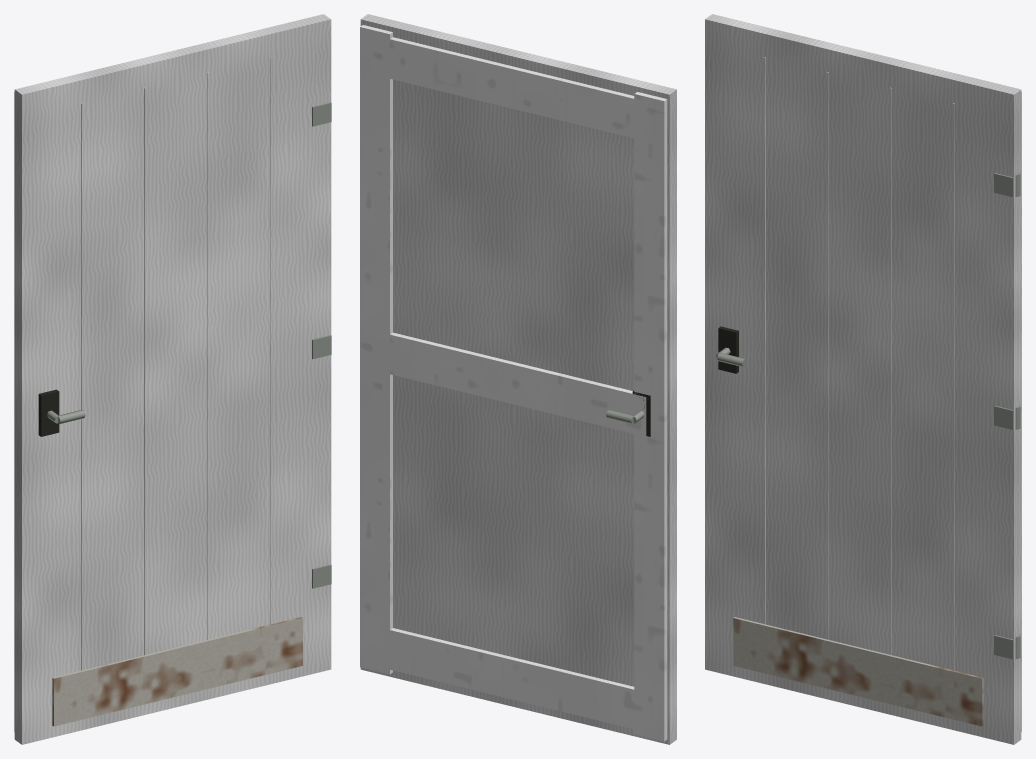
The model's file is SM_FieldStation_Hut_Door_LOD1.glb.
3 views of the same model, side by side, from view 1: azimuth 30°, elevation 25°; view 2: azimuth 150°, elevation 25°; view 3: azimuth 330°, elevation 25° (orthographic).
Visible parts, largest first — view 1: SM_FieldStation_Hut_Door_LOD1; view 2: SM_FieldStation_Hut_Door_LOD1; view 3: SM_FieldStation_Hut_Door_LOD1.
Part boxes in pixels (<box>): SM_FieldStation_Hut_Door_LOD1: <box>14,14,331,744</box>; SM_FieldStation_Hut_Door_LOD1: <box>360,14,676,744</box>; SM_FieldStation_Hut_Door_LOD1: <box>705,14,1021,744</box>.
Bounding box in the file's own units: 0.989 × 1.97 × 0.184.
Materials: 6 (4 with a texture image).
